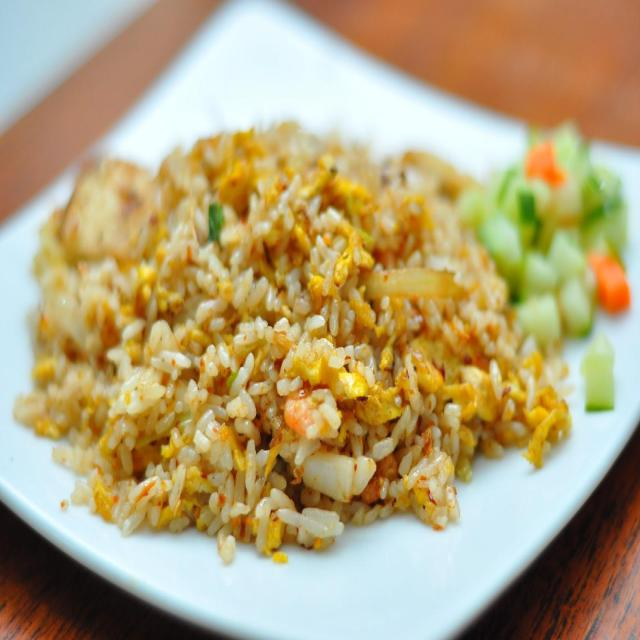Nasi Goreng: (15, 118, 574, 564)
